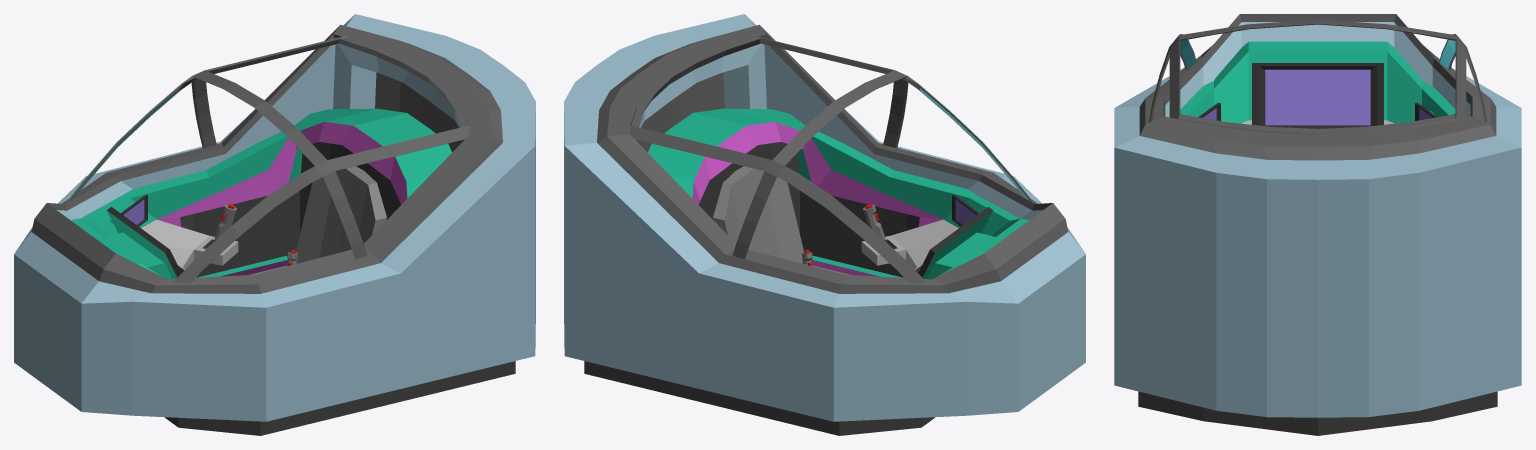
Rendered from Spaceship Exterior Cockpit details.fbx.
The picture shows the model from 3 angles, left to right: view 1: azimuth 30°, elevation 25°; view 2: azimuth 150°, elevation 25°; view 3: azimuth 270°, elevation 25°; orthographic projection. The views are drawn at different scales.
Visible parts, largest first — view 1: Cube.002, Cube, Cube.001, Cube.003; view 2: Cube.002, Cube, Cube.001, Cube.003; view 3: Cube.002, Cube, Cube.001, Cube.003.
Part boxes in pixels (box(x1,y1,x2,y2)): Cube.002: box(14, 14, 535, 421); Cube: box(71, 108, 451, 279); Cube.001: box(66, 35, 470, 283); Cube.003: box(165, 361, 515, 435); Cube.002: box(564, 14, 1085, 421); Cube: box(648, 108, 1028, 279); Cube.001: box(629, 35, 1033, 283); Cube.003: box(584, 361, 934, 435); Cube.002: box(1114, 14, 1521, 417); Cube: box(1180, 41, 1455, 128); Cube.001: box(1149, 19, 1486, 134); Cube.003: box(1138, 391, 1497, 435).
Size of the model in its own units: 1716 by 920 by 1173.
